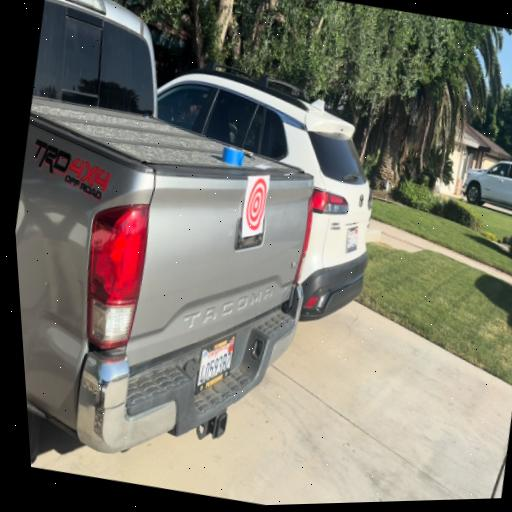bullseye: (242, 175, 269, 237)
